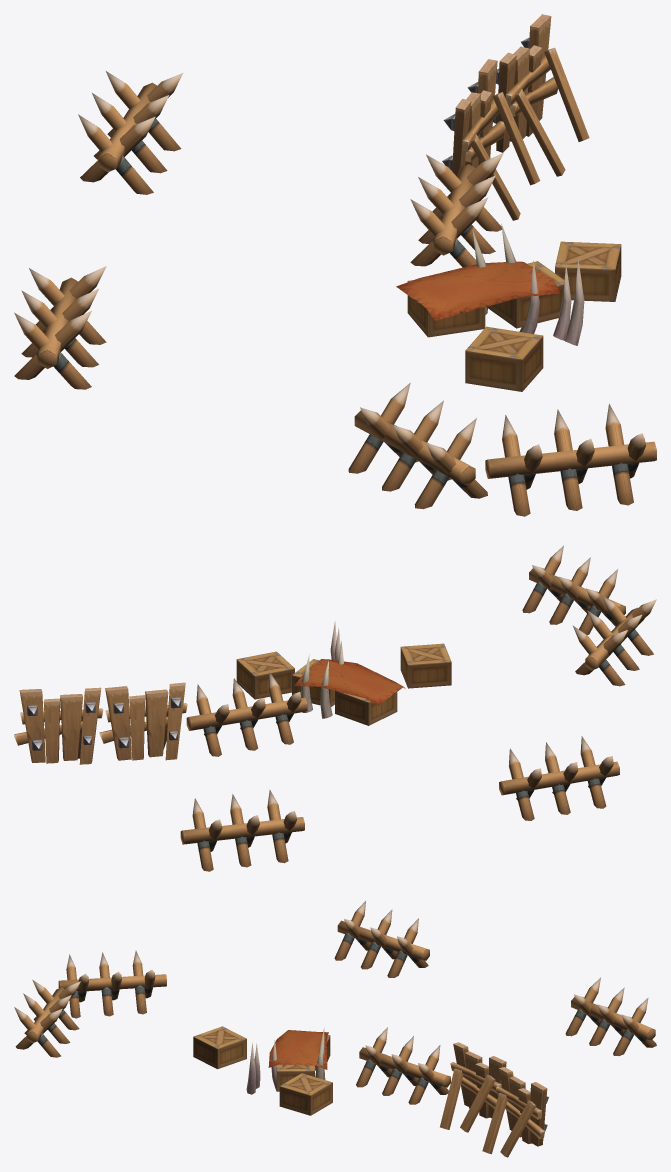
The model's file is area_07_19.fbx.
3 renders of one model, top to bottom at view 1: azimuth 30°, elevation 25°; view 2: azimuth 150°, elevation 25°; view 3: azimuth 270°, elevation 25°, orthographic. The views are drawn at different scales.
Parts seen in each view (by area): view 1: area_07_19; view 2: area_07_19; view 3: area_07_19.
Part boxes in pixels (x1=…): area_07_19: x1=14, y1=14, x2=656, y2=516; area_07_19: x1=14, y1=545, x2=656, y2=871; area_07_19: x1=14, y1=901, x2=656, y2=1157.
Bounding box in the file's own units: 24.21 × 3.99 × 31.33.
